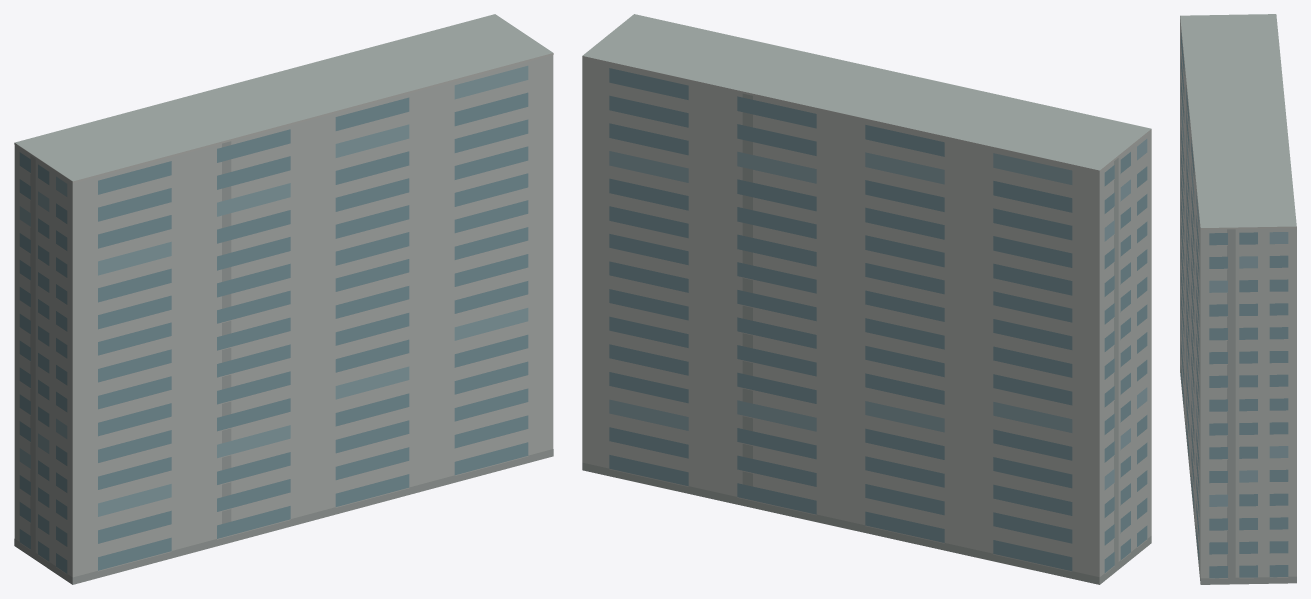
The model's file is residential-83d7cf7d-f47a-4360-b65f-a960edd50b53.glb.
3 views of the same model, side by side, from view 1: azimuth 30°, elevation 25°; view 2: azimuth 150°, elevation 25°; view 3: azimuth 270°, elevation 25° (orthographic). The views are drawn at different scales.
Visible parts, largest first — view 1: residential-83d7cf7d-f47a-4360-b65f-a960edd50b53.tmp; view 2: residential-83d7cf7d-f47a-4360-b65f-a960edd50b53.tmp; view 3: residential-83d7cf7d-f47a-4360-b65f-a960edd50b53.tmp.
Boxes of the visible parts, x1=… form: residential-83d7cf7d-f47a-4360-b65f-a960edd50b53.tmp: x1=14, y1=14, x2=553, y2=584; residential-83d7cf7d-f47a-4360-b65f-a960edd50b53.tmp: x1=582, y1=14, x2=1151, y2=584; residential-83d7cf7d-f47a-4360-b65f-a960edd50b53.tmp: x1=1180, y1=14, x2=1296, y2=584.
Size of the model in its own units: 61.78 by 48 by 14.24.
